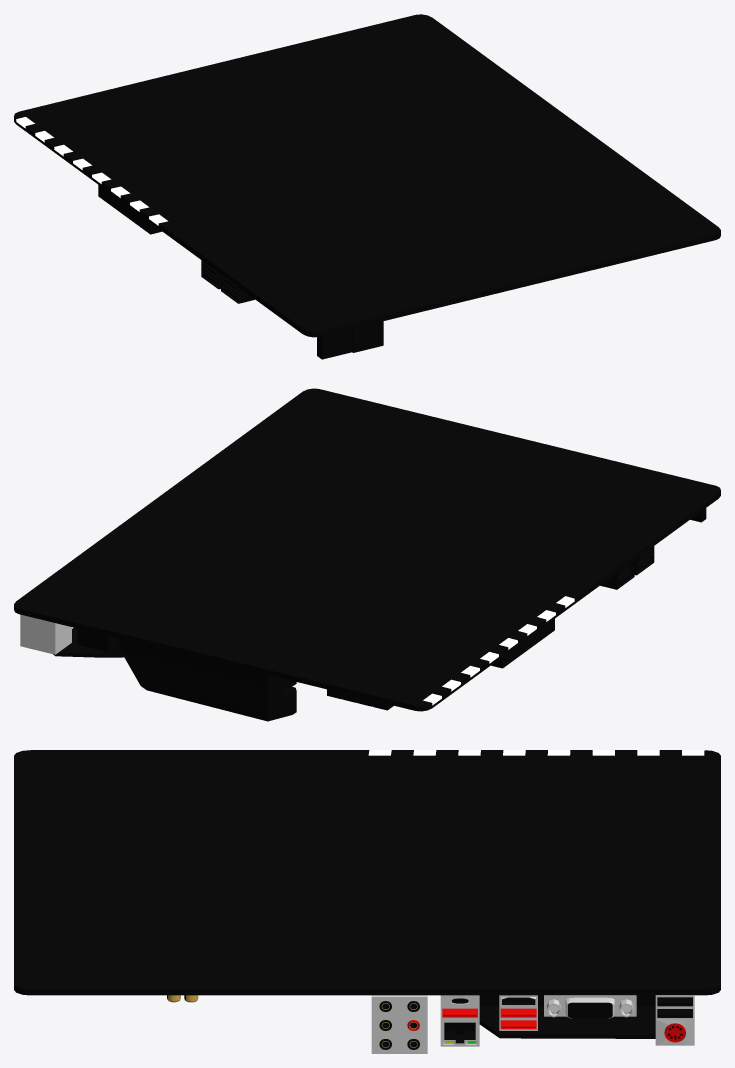
The model's file is sketchfab-msi-b450-tomahawk-max.glb.
3 renders of one model, top to bottom at view 1: azimuth 30°, elevation 25°; view 2: azimuth 150°, elevation 25°; view 3: azimuth 270°, elevation 25°, orthographic. The views are drawn at different scales.
Visible parts, largest first — view 1: Object_5, Object_8; view 2: Object_5, Object_10, Object_4, Object_8; view 3: Object_5, Object_10, Object_12, Object_8.
Part boxes in pixels (<box>): Object_5: <box>14,14,720,359</box>; Object_8: <box>16,117,167,225</box>; Object_5: <box>14,388,720,721</box>; Object_10: <box>20,614,71,654</box>; Object_4: <box>268,675,296,721</box>; Object_8: <box>423,596,574,705</box>; Object_5: <box>14,750,720,1049</box>; Object_10: <box>371,995,694,1053</box>; Object_12: <box>407,1008,685,1042</box>; Object_8: <box>368,750,704,755</box>.
Bounding box in the file's own units: 0.2484 × 0.0308 × 0.305.
11 materials, 2 textured.
